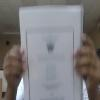notebook: (18, 4, 84, 99)
